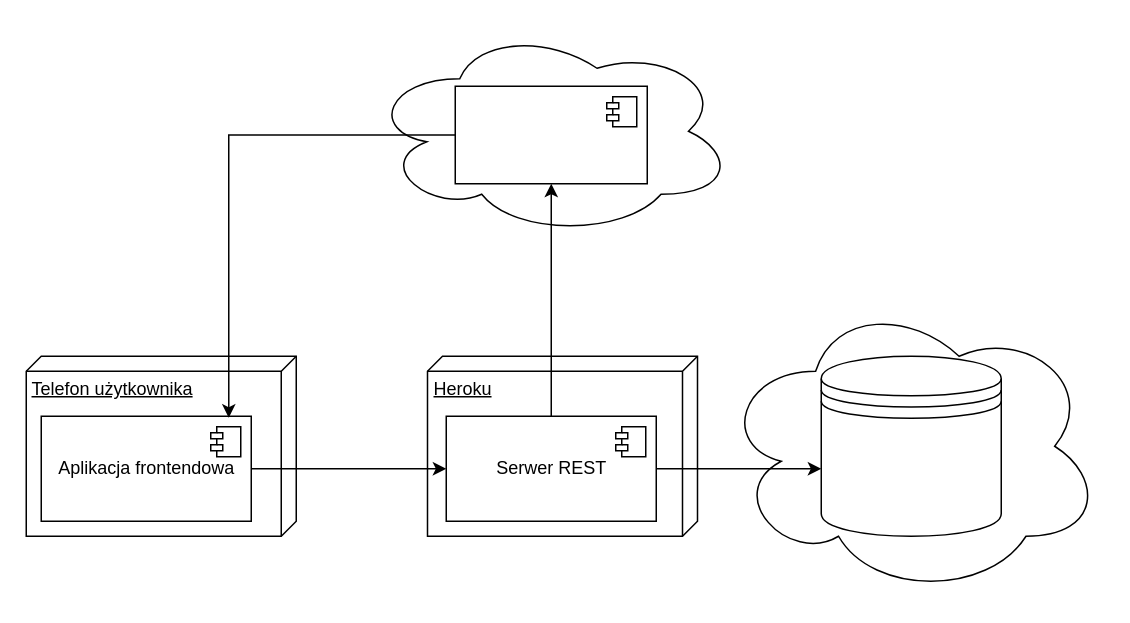
Image size: 1130x623. Some labels were removed from this diagram. Each missing label, with the centre of its shape:
"Firebase" goes at (x=550, y=134).
"MongoDB" goes at (x=910, y=445).
